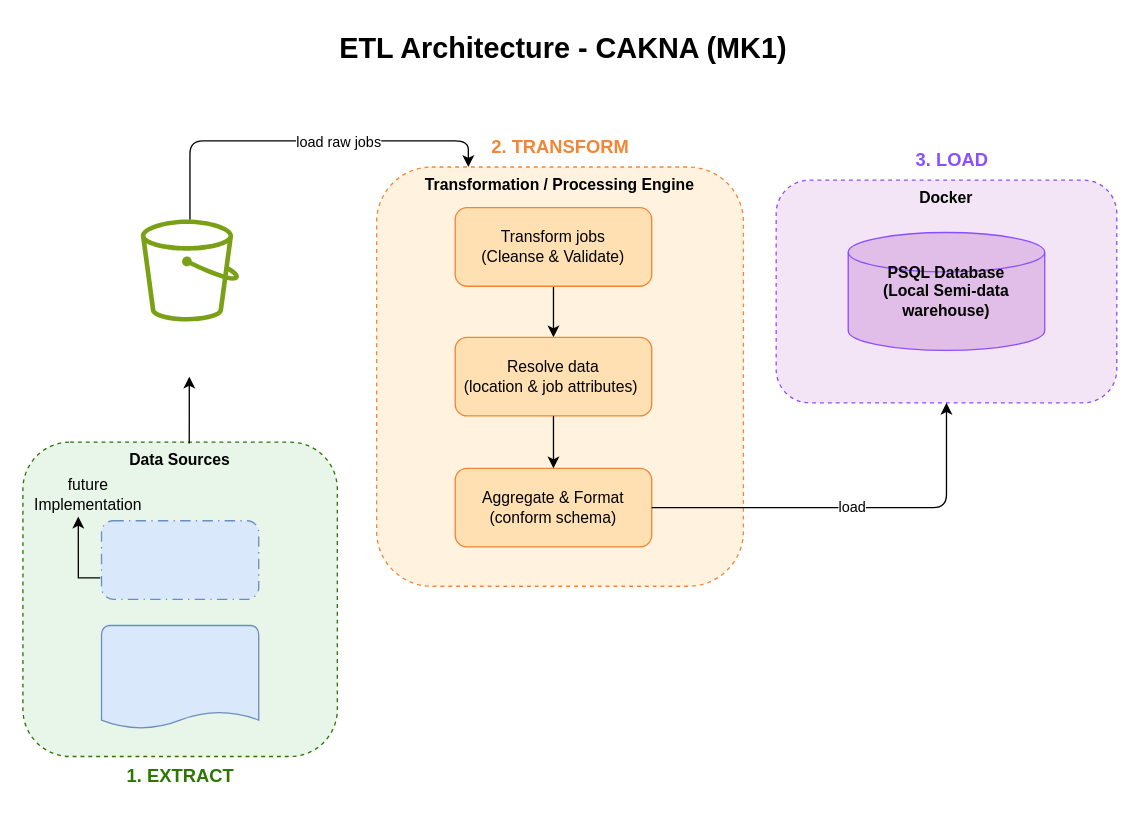
Image size: 1142x817. Some labels were removed from this diagram. The shapes that lost their labels are listed below. From the top down, each one's centre as x and y in pixels, then its label:
point 189,270: Staging / Landing Zone (Local Storage)
point 179,559: APIs / SaaS (REST, JSON)
point 179,677: Kaggle Datasets (CSV)
